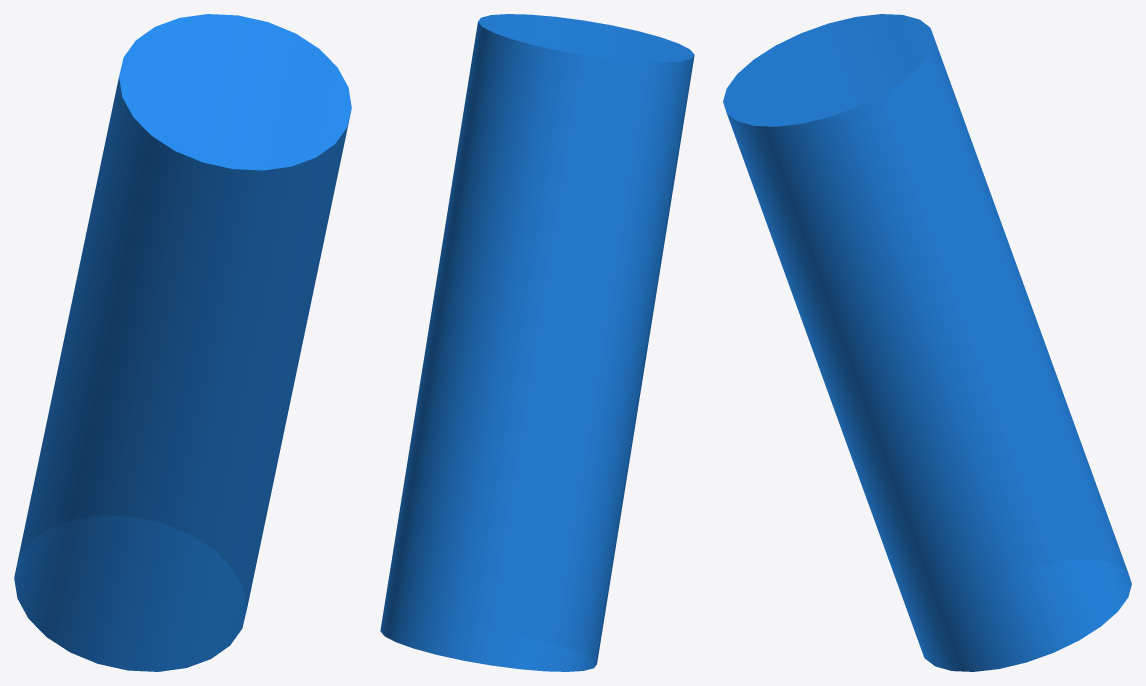
File: Event_192787598_MET.fbx
The picture shows the model from 3 angles, left to right: view 1: azimuth 30°, elevation 25°; view 2: azimuth 150°, elevation 25°; view 3: azimuth 270°, elevation 25°; orthographic projection. The views are drawn at different scales.
Parts seen in each view (by area): view 1: Model; view 2: Model; view 3: Model.
Boxes of the visible parts, box(x1,y1,x2,y2) form: Model: box(14, 14, 351, 671); Model: box(380, 14, 694, 671); Model: box(723, 14, 1131, 671).
Bounding box in the file's own units: 0.04 × 0.1207 × 0.0736.
